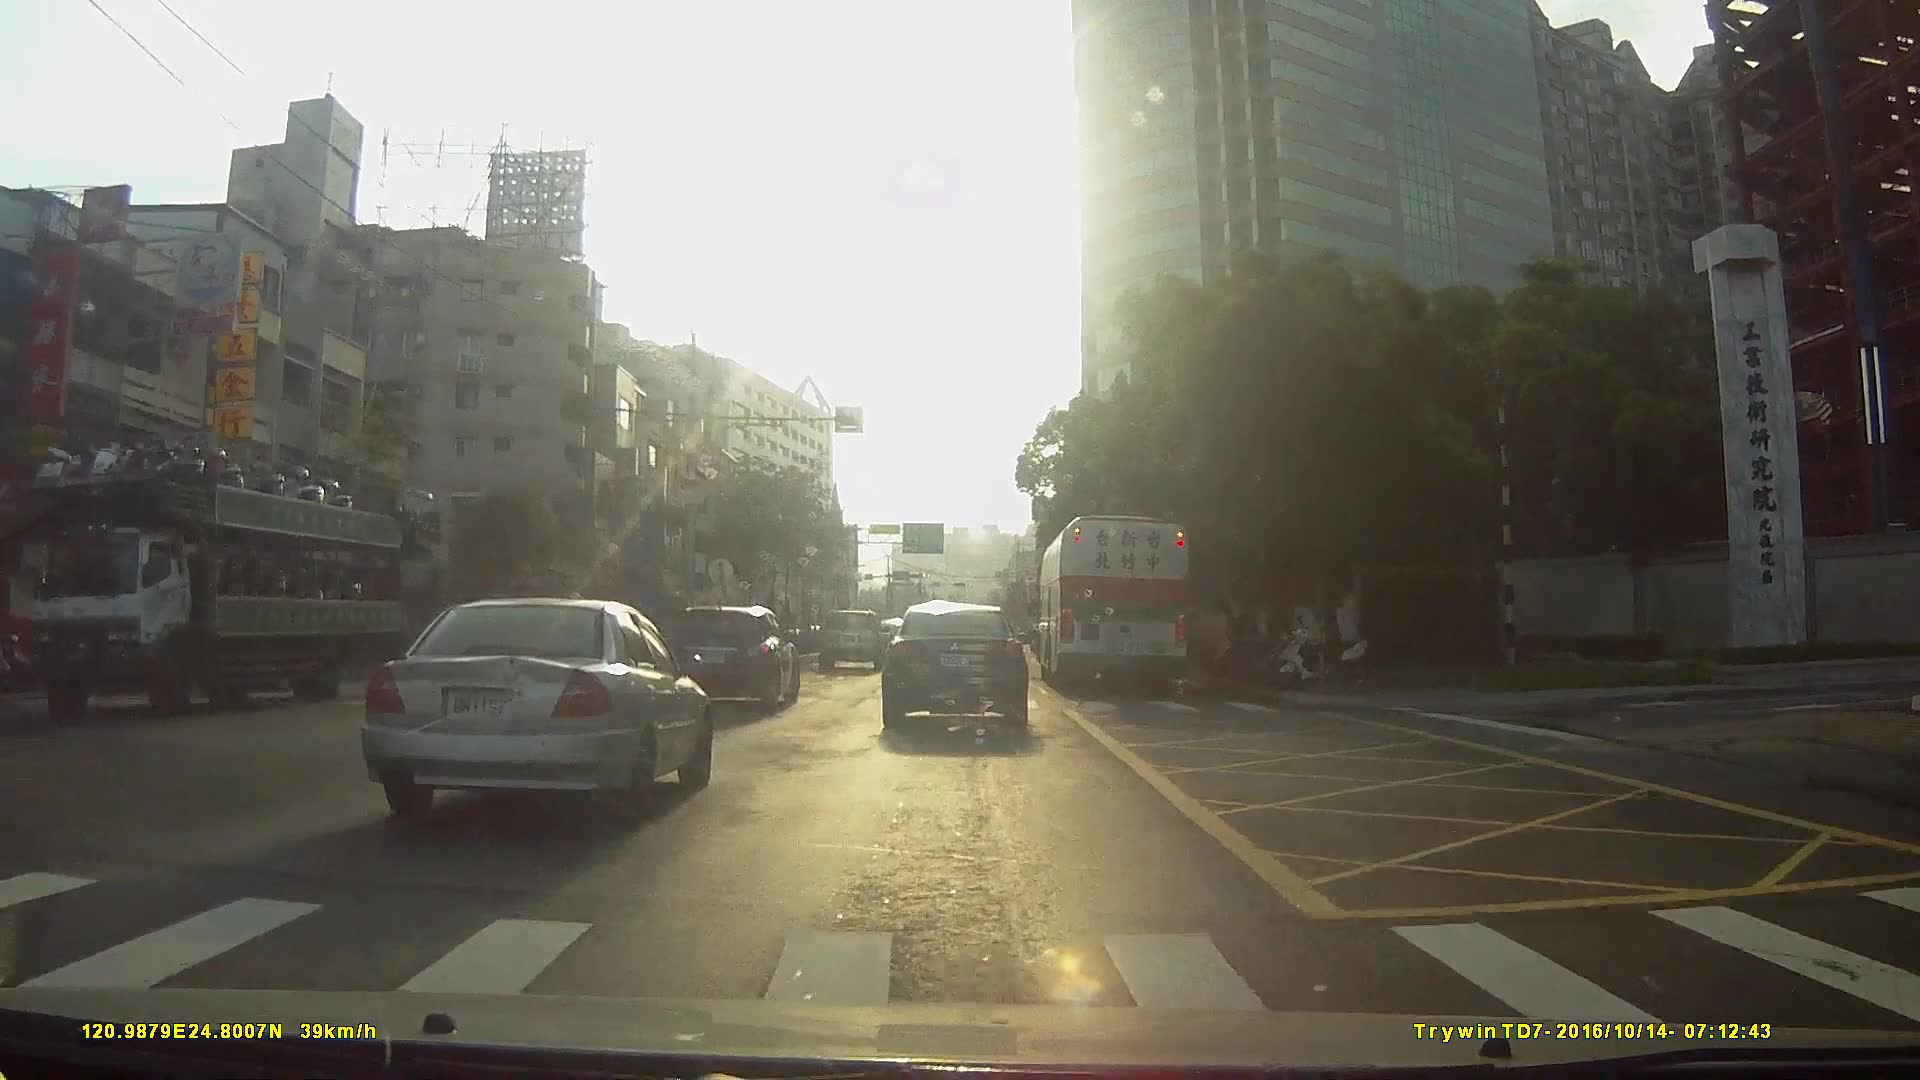vehicle: (44, 419, 396, 723), (353, 593, 709, 823), (1040, 510, 1197, 698), (880, 600, 1031, 738), (665, 604, 800, 711), (816, 609, 887, 674)
